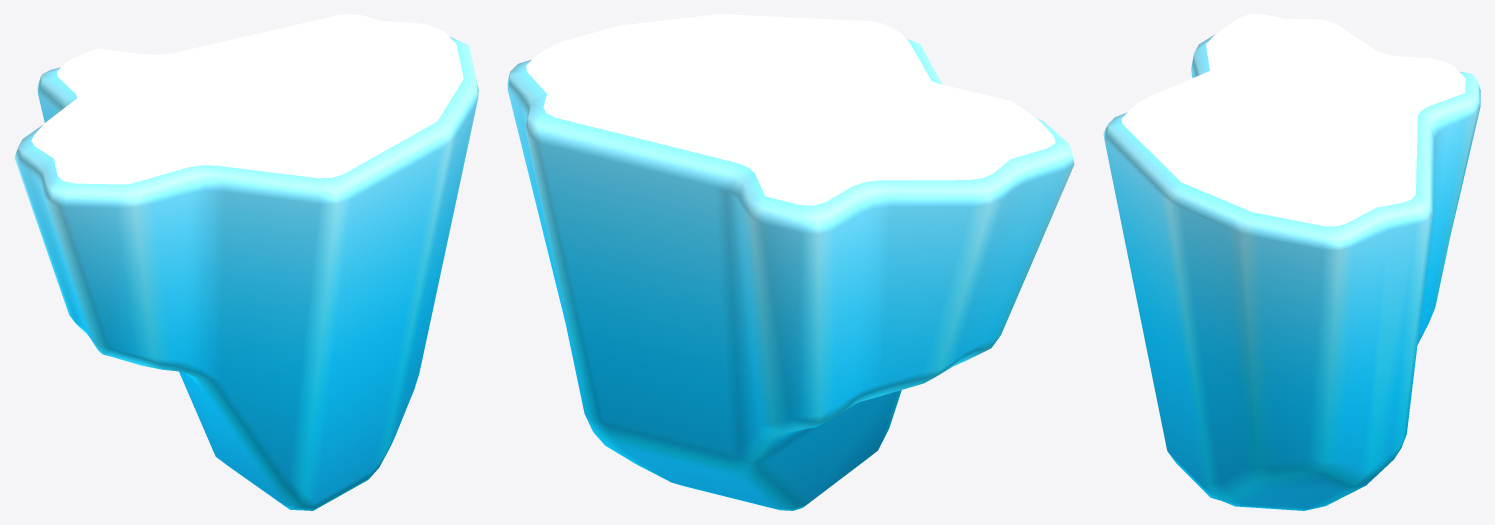
File: ice_snow_002.glb
3 views of the same model, side by side, from view 1: azimuth 30°, elevation 25°; view 2: azimuth 150°, elevation 25°; view 3: azimuth 270°, elevation 25° (orthographic). The views are drawn at different scales.
Visible parts, largest first — view 1: ice_snow_002; view 2: ice_snow_002; view 3: ice_snow_002.
Part boxes in pixels (x1=…): ice_snow_002: x1=14, y1=14, x2=478, y2=510; ice_snow_002: x1=507, y1=14, x2=1074, y2=510; ice_snow_002: x1=1103, y1=14, x2=1480, y2=510.
Size of the model in its own units: 3.58 by 2.84 by 2.63.
Materials: 2 (2 with a texture image).
